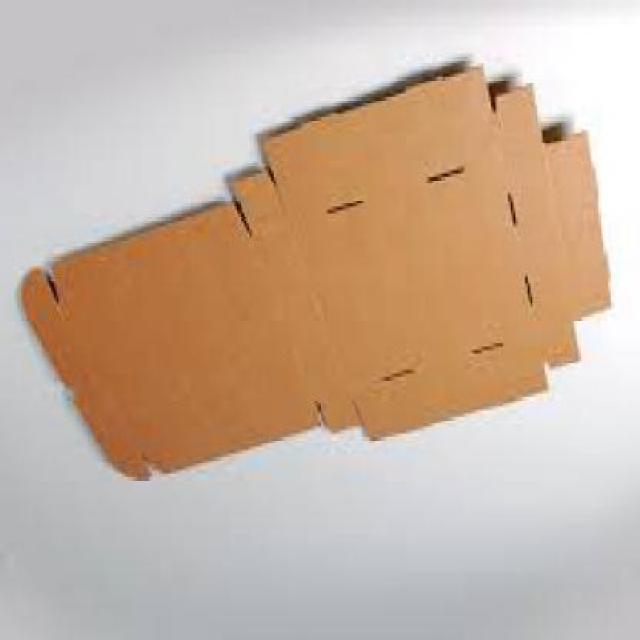CARDBOARD: (19, 71, 613, 483)
